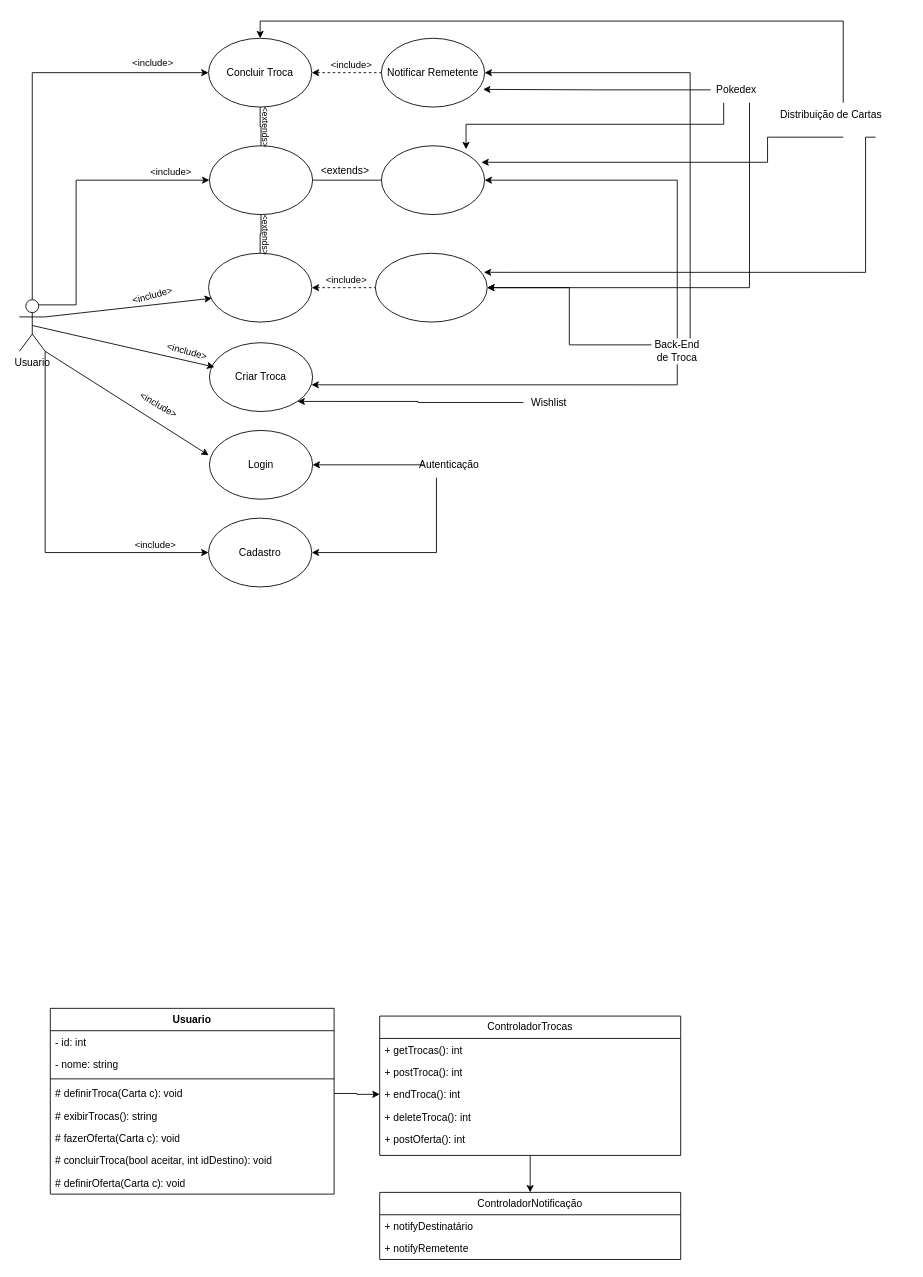
Image size: 923x1277. Some labels were removed from this diagram. The centre of each missing label's shape, as x and y in pixels:
Exibir Trocas: (x=261, y=180)
Fazer Oferta: (x=260, y=287)
Historico: (x=433, y=180)
Notificar Destinatário: (x=431, y=287)
